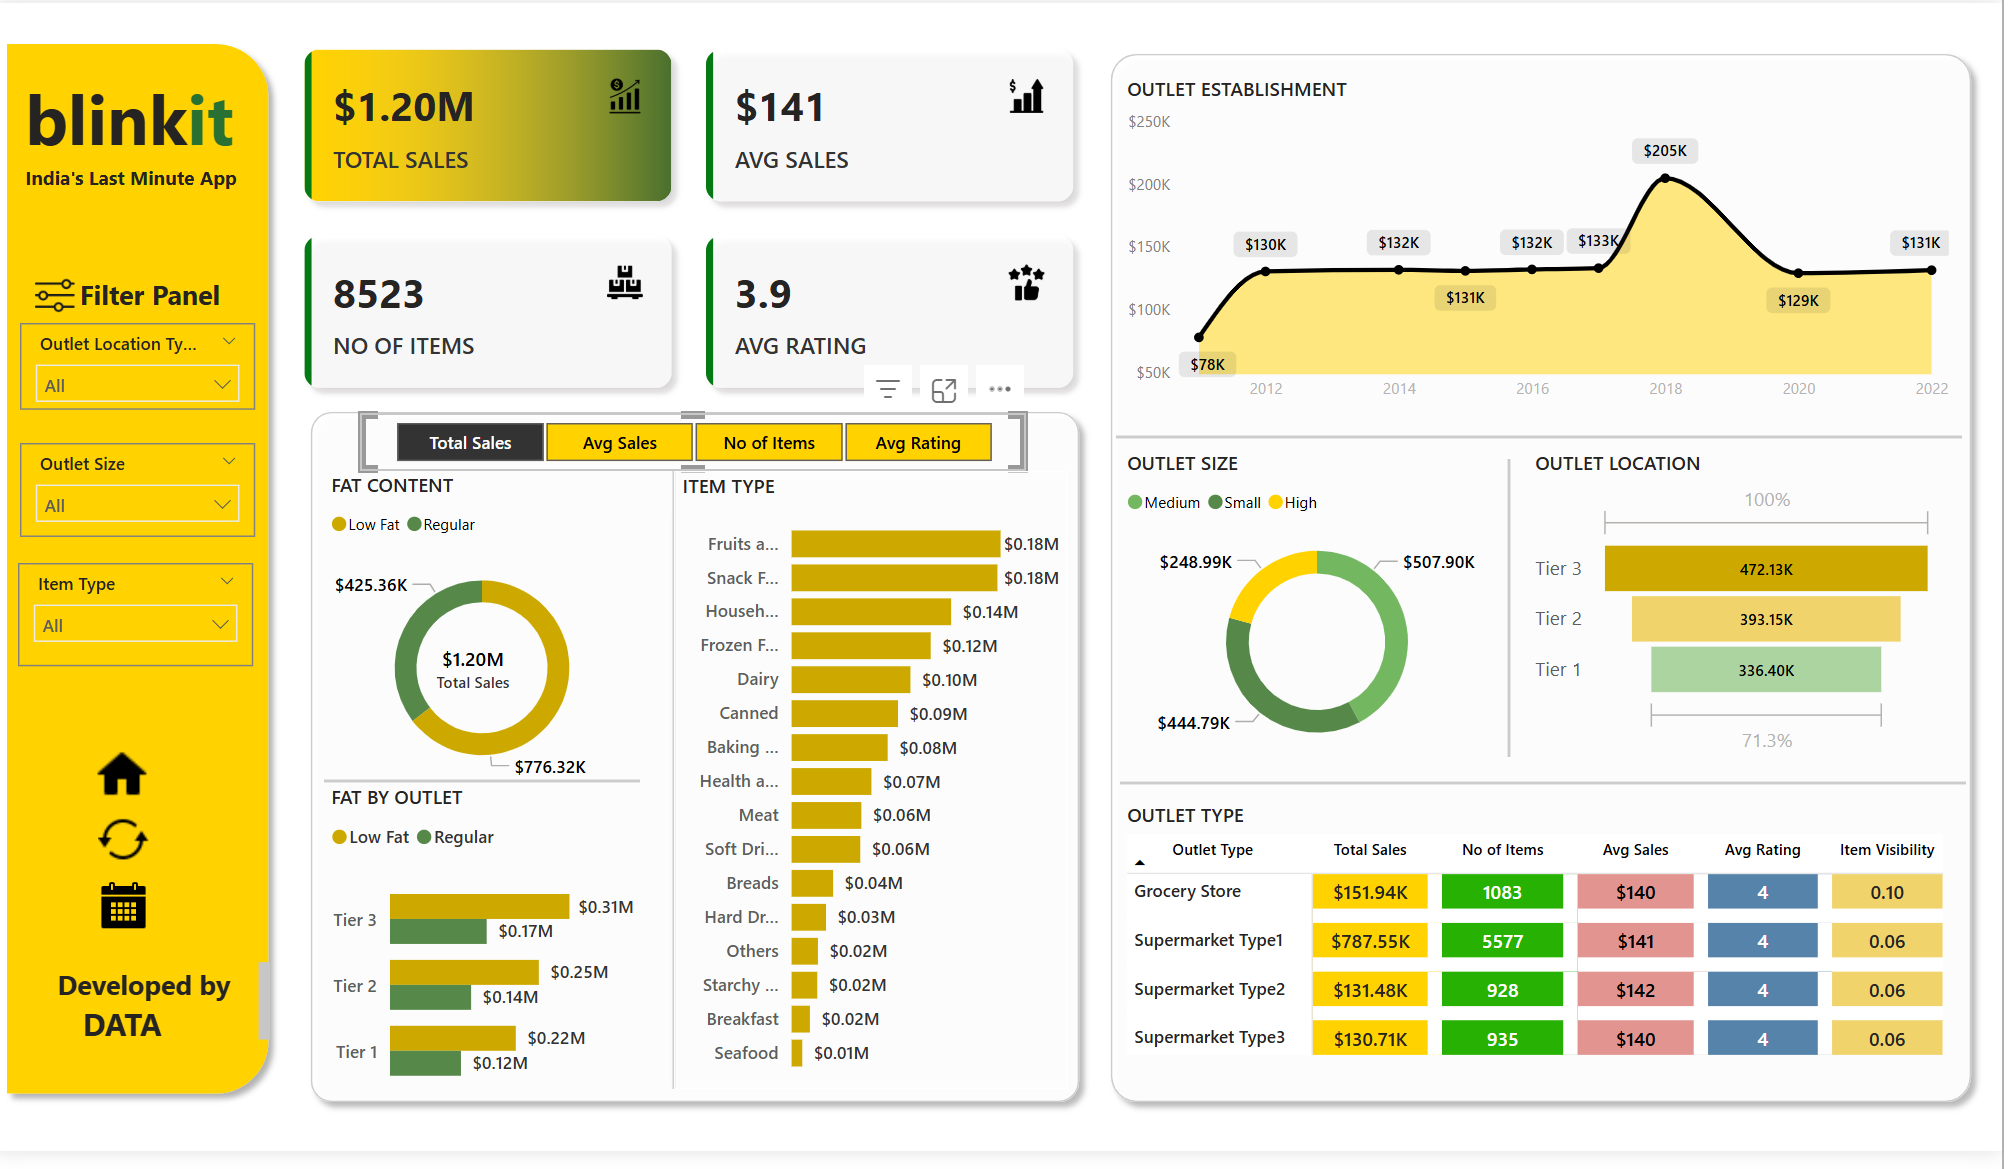

The page's visual inventory and layout, read from the dashboard file:
{"tool":"powerbi","page":{"name":"Page 1","canvas":[1400,800],"ordinal":0},"visuals":[{"type":"shape","box":[0,19.3,200.3,749.9],"z":0},{"type":"textbox","box":[16.7,41.8,165.9,93.4],"z":1000},{"type":"textbox","box":[16.7,107.4,165.9,27.9],"z":2000},{"type":"cardVisual","fields":{"Data":["BlinkIT Grocery Data.Total Sales","BlinkIT Grocery Data.Avg Sales","BlinkIT Grocery Data.No of Items","BlinkIT Grocery Data.Avg Rating"]},"box":[199.4,15.3,570.3,270.5],"z":3000},{"type":"shape","box":[458.8,355.6,26.5,400.2],"z":4000},{"type":"shape","box":[212,276.1,553.6,499.2],"z":5000},{"type":"donutChart","title":"FAT CONTENT","fields":{"Y":["BlinkIT Grocery Data.Total Sales"],"Category":["BlinkIT Grocery Data.Item Fat Content"]},"box":[230.1,326.3,220.3,230.1],"z":6000},{"type":"slicer","fields":{"Values":["Metrics.Metrics"]},"box":[255.2,285.9,464.3,40.4],"z":7000},{"type":"cardVisual","fields":{"Data":["BlinkIT Grocery Data.Total Sales"]},"box":[284.5,430.9,99,62.7],"z":8000},{"type":"clusteredBarChart","title":"FAT BY OUTLET","fields":{"Y":["BlinkIT Grocery Data.Total Sales"],"Category":["BlinkIT Grocery Data.Outlet Location Type"],"Series":["BlinkIT Grocery Data.Item Fat Content"]},"box":[229.4,544.3,221.1,229.4],"z":9000},{"type":"shape","box":[230.1,525.7,220.3,33.5],"z":10000},{"type":"shape","box":[458.8,326.3,30.7,430.9],"z":11000},{"type":"barChart","title":"ITEM TYPE","fields":{"Y":["BlinkIT Grocery Data.Total Sales"],"Category":["BlinkIT Grocery Data.Item Type"]},"box":[474.1,326.3,274.7,430.9],"z":12000},{"type":"shape","box":[769.7,26.5,617.7,748.8],"z":13000},{"type":"lineChart","title":"OUTLET ESTABLISHMENT","fields":{"Y":["BlinkIT Grocery Data.Total Sales"],"Category":["BlinkIT Grocery Data.Outlet Establishment Year"]},"box":[785.1,50.2,582.9,235.7],"z":14000},{"type":"shape","box":[782.3,285.9,589.8,33.5],"z":15000},{"type":"donutChart","title":"OUTLET SIZE","fields":{"Y":["BlinkIT Grocery Data.Total Sales"],"Category":["BlinkIT Grocery Data.Outlet Size"]},"box":[785.1,311,274.7,224.5],"z":16000},{"type":"shape","box":[1043,317.9,26.5,207.8],"z":17000},{"type":"funnel","title":"OUTLET LOCATION","fields":{"Y":["Sum(BlinkIT Grocery Data.Sales)"],"Category":["BlinkIT Grocery Data.Outlet Location Type"]},"box":[1069.5,311,288.6,218.9],"z":18000},{"type":"shape","box":[785.1,527.1,589.8,33.5],"z":19000},{"type":"pivotTable","title":"OUTLET TYPE","fields":{"Rows":["BlinkIT Grocery Data.Outlet Type"],"Values":["BlinkIT Grocery Data.Total Sales","BlinkIT Grocery Data.No of Items","BlinkIT Grocery Data.Avg Sales","BlinkIT Grocery Data.Avg Rating","Avg(BlinkIT Grocery Data.Item Visibility)"]},"box":[785.1,556.4,582.9,213.3],"z":20000},{"type":"slicer","fields":{"Values":["BlinkIT Grocery Data.Outlet Location Type"]},"box":[18.4,222.7,164.1,60.3],"z":21000},{"type":"slicer","fields":{"Values":["BlinkIT Grocery Data.Outlet Size"]},"box":[18.4,306.5,164.1,65.3],"z":22000},{"type":"slicer","fields":{"Values":["BlinkIT Grocery Data.Item Type"]},"box":[16.7,390.2,164.1,72],"z":23000},{"type":"textbox","box":[33.5,185.9,149,36.8],"z":24000},{"type":"image","box":[18.4,179.2,48.6,48.6],"z":25000},{"type":"image","box":[43.5,514.1,92.1,46.9],"z":26000},{"type":"image","box":[26.8,561,127.3,45.2],"z":27000},{"type":"image","box":[38.5,607.9,102.2,43.5],"z":28000},{"type":"textbox","box":[33.5,663.2,164.1,65.3],"z":29000}]}

Visuals, with their boxes in screenshot pixels (x1, y1, x2, y2), scaled from the page's 1400x800 canvas onto the 2008x1169 screenshot:
shape: {"x1": 0, "y1": 28, "x2": 287, "y2": 1124}
textbox: {"x1": 24, "y1": 61, "x2": 262, "y2": 198}
textbox: {"x1": 24, "y1": 157, "x2": 262, "y2": 198}
cardVisual - BlinkIT Grocery Data.Total Sales x BlinkIT Grocery Data.Avg Sales: {"x1": 286, "y1": 22, "x2": 1104, "y2": 418}
shape: {"x1": 658, "y1": 520, "x2": 696, "y2": 1104}
shape: {"x1": 304, "y1": 403, "x2": 1098, "y2": 1133}
"FAT CONTENT" donutChart: {"x1": 330, "y1": 477, "x2": 646, "y2": 813}
slicer - Metrics.Metrics: {"x1": 366, "y1": 418, "x2": 1032, "y2": 477}
cardVisual - BlinkIT Grocery Data.Total Sales: {"x1": 408, "y1": 630, "x2": 550, "y2": 721}
"FAT BY OUTLET" clusteredBarChart: {"x1": 329, "y1": 795, "x2": 646, "y2": 1131}
shape: {"x1": 330, "y1": 768, "x2": 646, "y2": 817}
shape: {"x1": 658, "y1": 477, "x2": 702, "y2": 1106}
"ITEM TYPE" barChart: {"x1": 680, "y1": 477, "x2": 1074, "y2": 1106}
shape: {"x1": 1104, "y1": 39, "x2": 1990, "y2": 1133}
"OUTLET ESTABLISHMENT" lineChart: {"x1": 1126, "y1": 73, "x2": 1962, "y2": 418}
shape: {"x1": 1122, "y1": 418, "x2": 1968, "y2": 467}
"OUTLET SIZE" donutChart: {"x1": 1126, "y1": 454, "x2": 1520, "y2": 782}
shape: {"x1": 1496, "y1": 465, "x2": 1534, "y2": 768}
"OUTLET LOCATION" funnel: {"x1": 1534, "y1": 454, "x2": 1948, "y2": 774}
shape: {"x1": 1126, "y1": 770, "x2": 1972, "y2": 819}
"OUTLET TYPE" pivotTable: {"x1": 1126, "y1": 813, "x2": 1962, "y2": 1125}
slicer - BlinkIT Grocery Data.Outlet Location Type: {"x1": 26, "y1": 325, "x2": 262, "y2": 414}
slicer - BlinkIT Grocery Data.Outlet Size: {"x1": 26, "y1": 448, "x2": 262, "y2": 543}
slicer - BlinkIT Grocery Data.Item Type: {"x1": 24, "y1": 570, "x2": 259, "y2": 675}
textbox: {"x1": 48, "y1": 272, "x2": 262, "y2": 325}
image: {"x1": 26, "y1": 262, "x2": 96, "y2": 333}
image: {"x1": 62, "y1": 751, "x2": 194, "y2": 820}
image: {"x1": 38, "y1": 820, "x2": 221, "y2": 886}
image: {"x1": 55, "y1": 888, "x2": 202, "y2": 952}
textbox: {"x1": 48, "y1": 969, "x2": 283, "y2": 1065}
